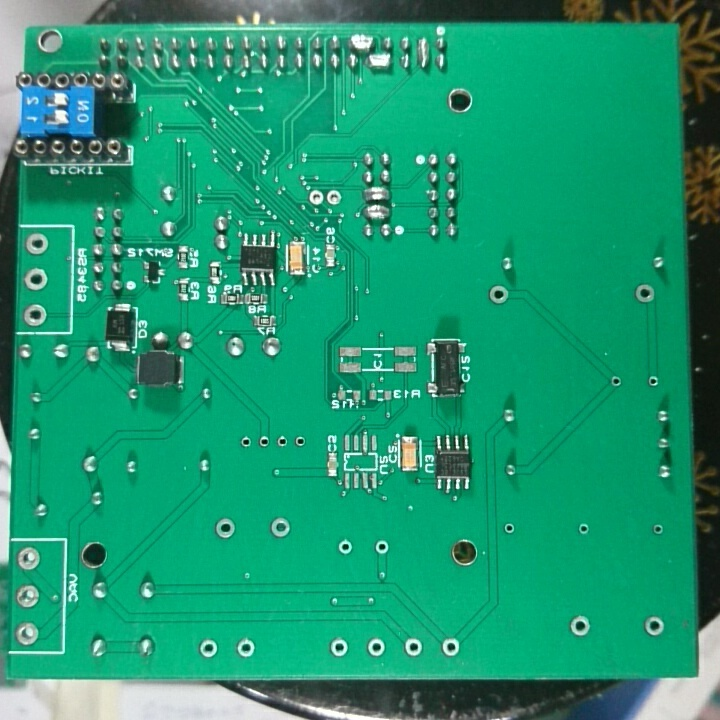F: (13, 580, 42, 610), (14, 543, 42, 573), (14, 619, 41, 647), (23, 230, 51, 257), (212, 514, 238, 543), (568, 612, 594, 640), (485, 283, 511, 309), (437, 633, 462, 660), (266, 515, 293, 540), (23, 266, 50, 291), (642, 613, 666, 641), (22, 302, 48, 327), (195, 636, 219, 661), (632, 280, 656, 304), (401, 635, 423, 660), (365, 635, 387, 660), (234, 638, 258, 660), (329, 635, 349, 659), (335, 535, 354, 560), (325, 186, 344, 209), (253, 432, 274, 451), (372, 536, 390, 558), (306, 187, 325, 207), (607, 372, 625, 392), (237, 431, 254, 452), (648, 520, 667, 538), (289, 432, 307, 451), (272, 432, 289, 452), (576, 519, 593, 538), (644, 372, 660, 391), (501, 519, 516, 538)
P: (357, 202, 395, 222), (414, 35, 433, 71), (357, 185, 394, 203), (364, 50, 397, 70), (346, 32, 377, 51)
